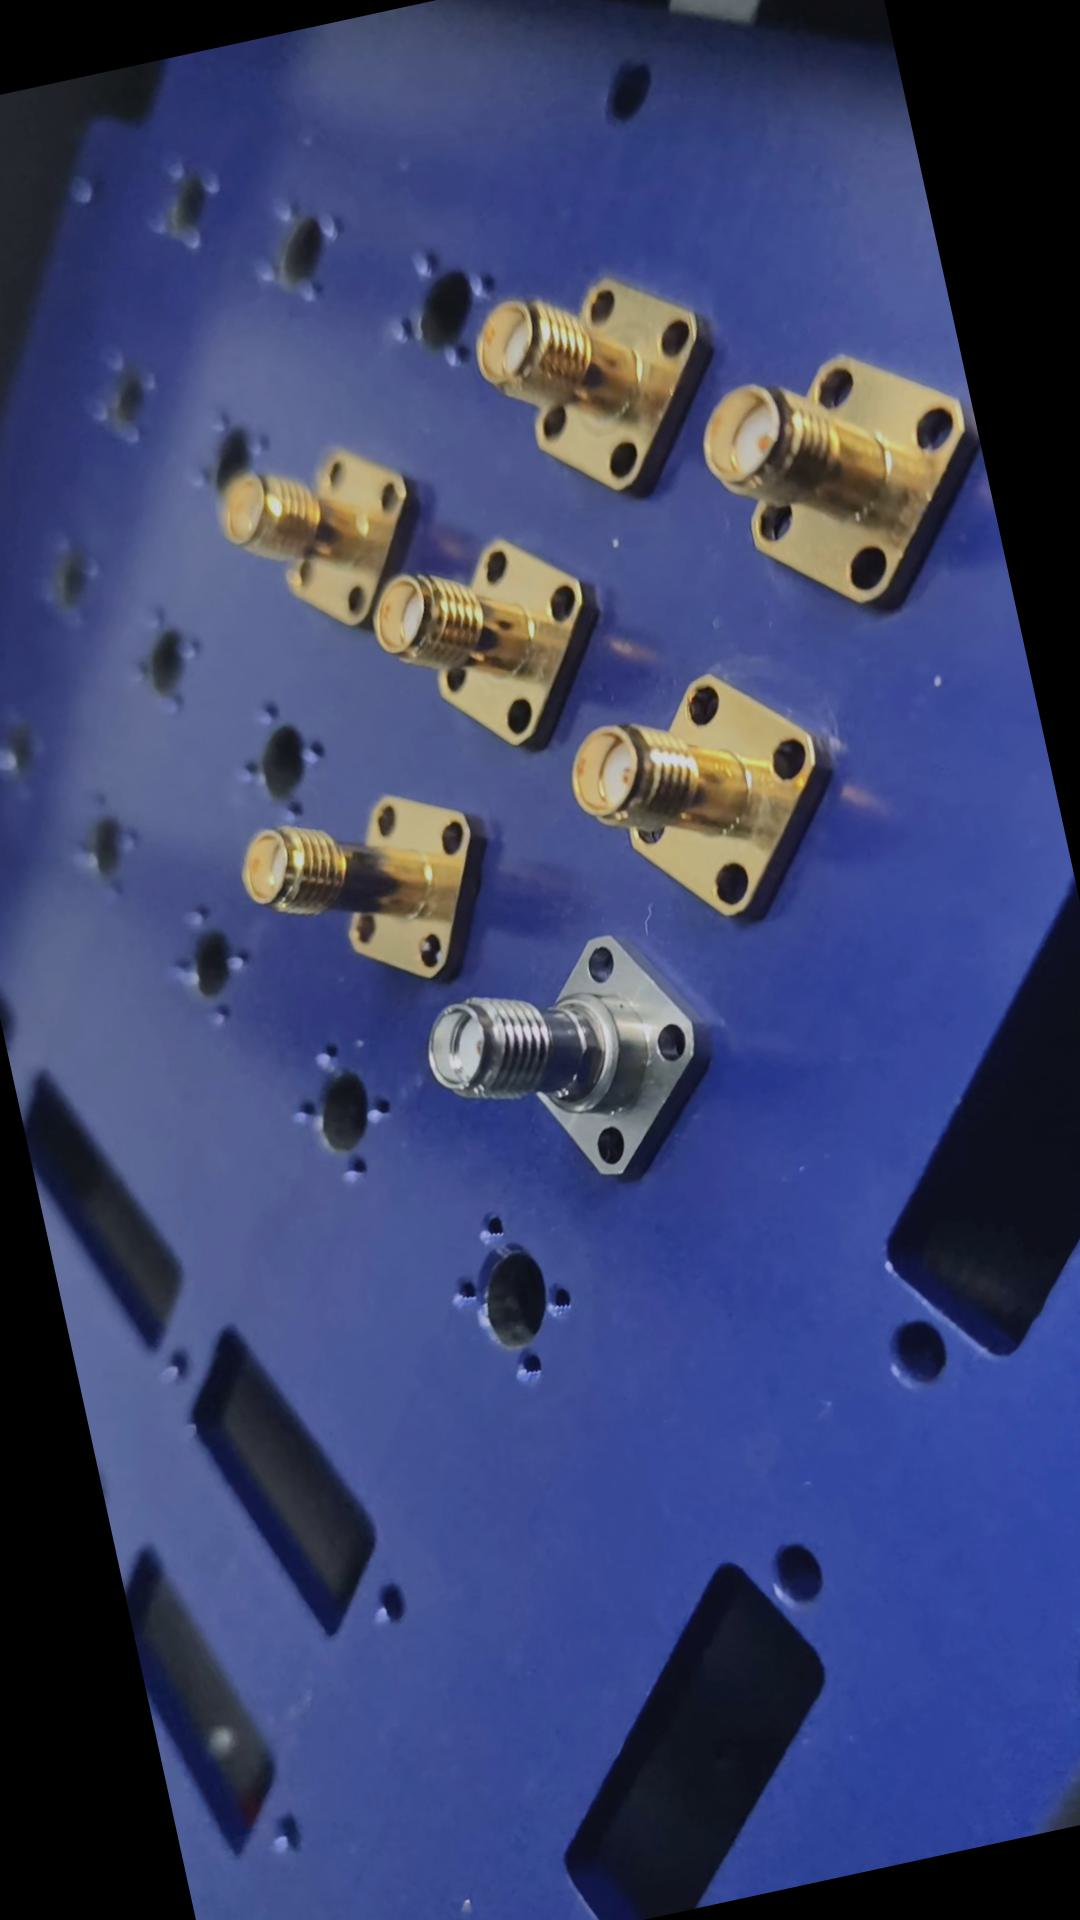SMA: (671, 323, 1004, 640), (401, 899, 729, 1209), (554, 638, 858, 944), (463, 236, 736, 524), (220, 761, 498, 1017), (375, 497, 617, 767), (200, 425, 438, 662)
